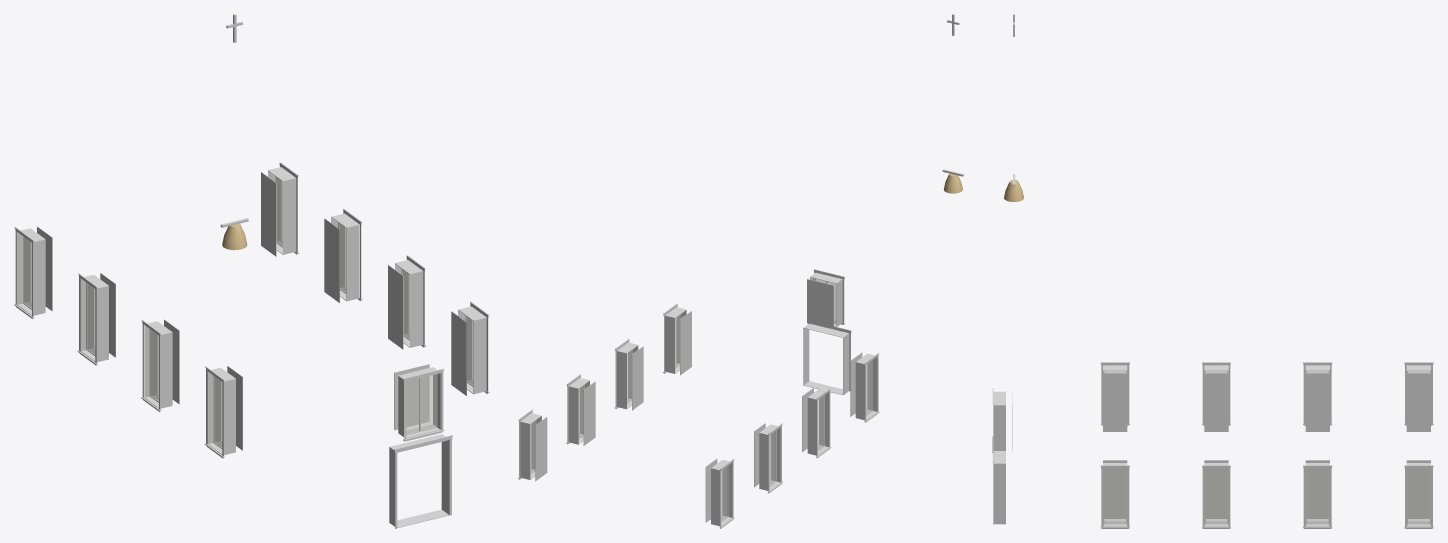
The model's file is SM_Town_Church_Trim.fbx.
The picture shows the model from 3 angles, left to right: view 1: azimuth 30°, elevation 25°; view 2: azimuth 150°, elevation 25°; view 3: azimuth 270°, elevation 25°; orthographic projection. The views are drawn at different scales.
Parts seen in each view (by area): view 1: SM_Town_Church_Trim_1; view 2: SM_Town_Church_Trim_1; view 3: SM_Town_Church_Trim_1.
Boxes of the visible parts, <box> form: SM_Town_Church_Trim_1: <box>14,14,489,528</box>; SM_Town_Church_Trim_1: <box>518,14,963,528</box>; SM_Town_Church_Trim_1: <box>992,14,1433,528</box>.
Bounding box in the file's own units: 1467 × 2350 × 2178.
